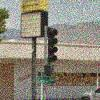traffic lights: (45, 26, 58, 65)
